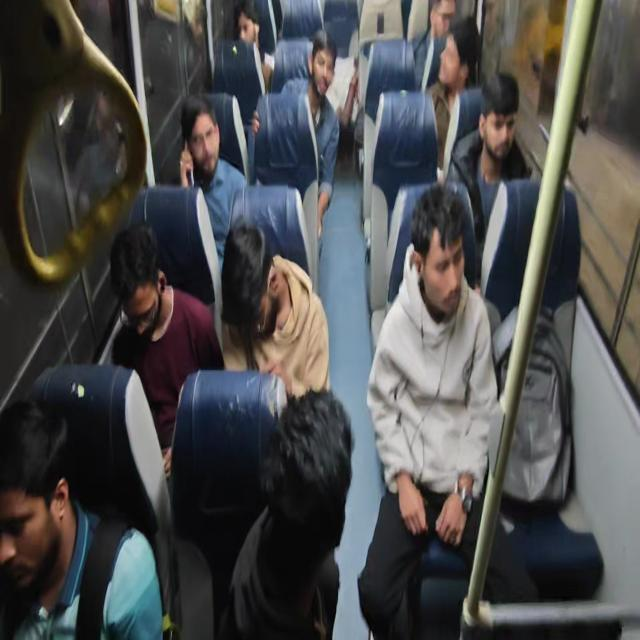person: (271, 386, 357, 583), (2, 379, 81, 586), (412, 180, 476, 336), (107, 214, 172, 358), (213, 233, 289, 349), (182, 95, 225, 182), (482, 80, 521, 171), (434, 28, 478, 104), (306, 38, 338, 106), (236, 0, 262, 60), (421, 0, 459, 38)
